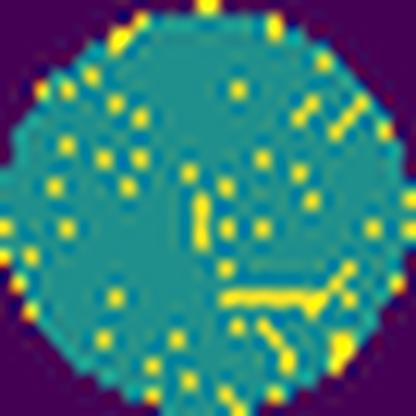Scratch: (216, 260, 364, 324)
